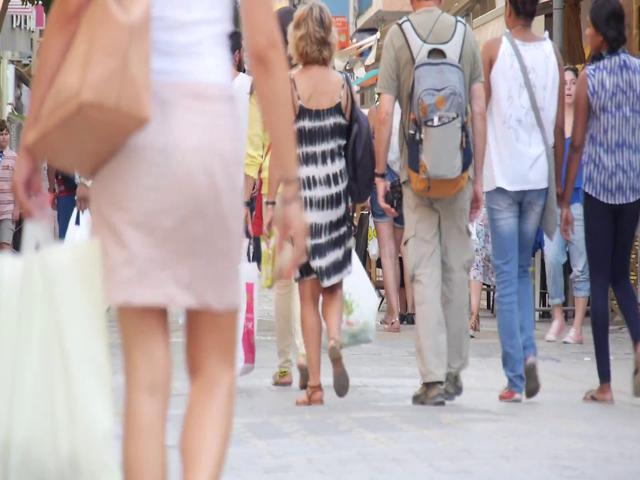shoe: (327, 345, 349, 397), (412, 382, 445, 406), (524, 356, 540, 398), (583, 384, 613, 403), (296, 384, 323, 405), (545, 315, 564, 342), (445, 373, 463, 401), (562, 325, 583, 345), (499, 387, 522, 401), (272, 371, 293, 386), (382, 319, 401, 333)
